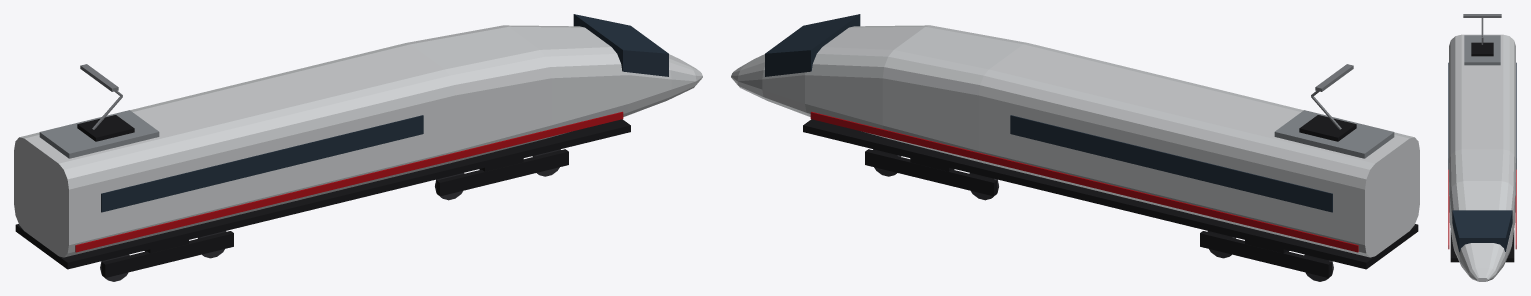
File: hsr_power.obj
The picture shows the model from 3 angles, left to right: view 1: azimuth 30°, elevation 25°; view 2: azimuth 150°, elevation 25°; view 3: azimuth 270°, elevation 25°; orthographic projection. The views are drawn at different scales.
Bounding box in the file's own units: 20.4 × 5.79 × 3.01.
